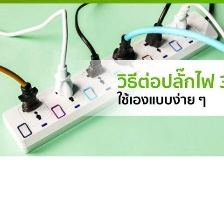three_eye_plug: (0, 9, 220, 155)
